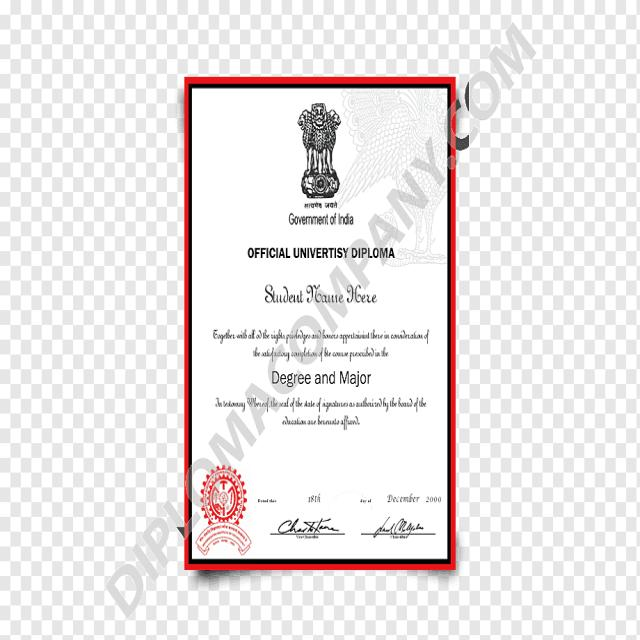degree: (266, 368, 376, 392)
signature: (273, 519, 347, 546), (373, 520, 431, 543)
stamp: (199, 468, 253, 560)
